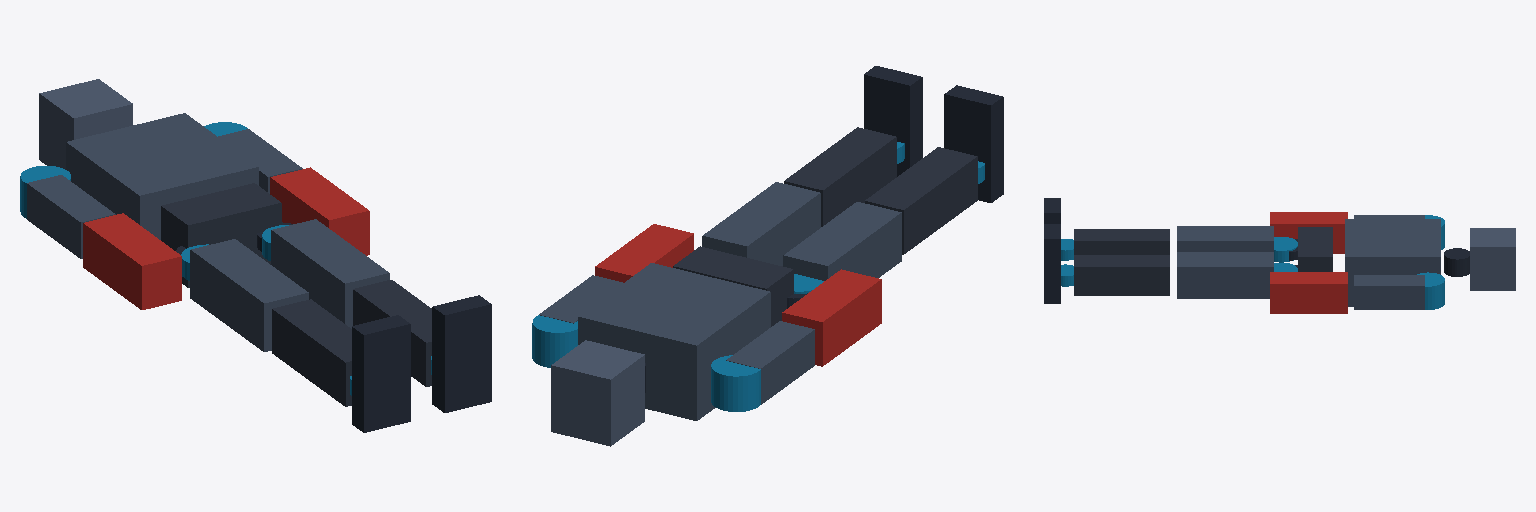
URDF robot description (rocky_mk1):
<?xml version="1.0"?>
<robot name="rocky_mk1">
  <!--
    Per-link mass properties (authored BOM estimates, 2026-11-24).
    Rocky Mk1 is a ~45 cm, ~1.5 kg 1/4-scale humanoid. Total mass of all
    22 <inertial> blocks below: 1.487 kg. Torso/pelvis dominate; limbs
    taper distally. COM origins are near each link's geometric center.
    These URDF tags are the single source of truth; the checked-in table
    crates/rk-control/src/mass_table.rs is generated from them and verified
    by crates/rk-model/tests/mass_table_test.rs.
  -->
  <!-- Pelvis / Root -->
  <link name="pelvis">
    <inertial>
      <origin xyz="0 0 0" rpy="0 0 0" />
      <mass value="0.380" />
      <inertia ixx="0.00100" ixy="0" ixz="0" iyy="0.00080" iyz="0" izz="0.00070" />
    </inertial>
    <visual>
      <origin xyz="0 0 0" rpy="0 0 0" />
      <geometry><box size="0.22 0.11 0.14" /></geometry>
      <material name="titanium_dark"><color rgba="0.22 0.25 0.30 1.0" /></material>
    </visual>
  </link>

  <!-- Torso & Head -->
  <link name="torso">
    <inertial>
      <origin xyz="0 0.16 0" rpy="0 0 0" />
      <mass value="0.480" />
      <inertia ixx="0.00330" ixy="0" ixz="0" iyy="0.00210" iyz="0" izz="0.00250" />
    </inertial>
    <visual>
      <origin xyz="0 0.16 0" rpy="0 0 0" />
      <geometry><box size="0.28 0.30 0.17" /></geometry>
      <material name="armor_slate"><color rgba="0.30 0.35 0.42 1.0" /></material>
    </visual>
  </link>
  <joint name="waist_yaw" type="revolute">
    <parent link="pelvis" />
    <child link="torso" />
    <origin xyz="0 0.08 0" rpy="0 0 0" />
    <axis xyz="0 1 0" />
    <limit lower="-1.05" upper="1.05" effort="24.0" velocity="6.0" />
  </joint>

  <link name="neck">
    <inertial>
      <origin xyz="0 0.03 0" rpy="0 0 0" />
      <mass value="0.014" />
      <inertia ixx="0.00001" ixy="0" ixz="0" iyy="0.00001" iyz="0" izz="0.00001" />
    </inertial>
    <visual>
      <origin xyz="0 0.03 0" rpy="0 0 0" />
      <geometry><cylinder radius="0.042" length="0.06" /></geometry>
      <material name="servo_ring"><color rgba="0.18 0.21 0.26 1.0" /></material>
    </visual>
  </link>
  <joint name="head_yaw" type="revolute">
    <parent link="torso" />
    <child link="neck" />
    <origin xyz="0 0.33 0" rpy="0 0 0" />
    <axis xyz="0 1 0" />
    <limit lower="-1.22" upper="1.22" effort="10.0" velocity="6.0" />
  </joint>

  <link name="head">
    <inertial>
      <origin xyz="0 0.08 0.01" rpy="0 0 0" />
      <mass value="0.065" />
      <inertia ixx="0.00017" ixy="0" ixz="0" iyy="0.00017" iyz="0" izz="0.00014" />
    </inertial>
    <visual>
      <origin xyz="0 0.08 0.01" rpy="0 0 0" />
      <geometry><box size="0.14 0.14 0.15" /></geometry>
      <material name="visor_shell"><color rgba="0.34 0.39 0.47 1.0" /></material>
    </visual>
  </link>
  <joint name="head_pitch" type="revolute">
    <parent link="neck" />
    <child link="head" />
    <origin xyz="0 0.06 0" rpy="0 0 0" />
    <axis xyz="1 0 0" />
    <limit lower="-0.52" upper="0.61" effort="10.0" velocity="6.0" />
  </joint>

  <!-- Left Arm -->
  <link name="l_shoulder">
    <inertial>
      <origin xyz="0.03 0 0" rpy="0 0 0" />
      <mass value="0.028" />
      <inertia ixx="0.00003" ixy="0" ixz="0" iyy="0.00003" iyz="0" izz="0.00003" />
    </inertial>
    <visual>
      <origin xyz="0.03 0 0" rpy="0 0 0" />
      <geometry><cylinder radius="0.052" length="0.08" /></geometry>
      <material name="servo_accent"><color rgba="0.12 0.52 0.68 1.0" /></material>
    </visual>
  </link>
  <joint name="l_shoulder_pitch" type="revolute">
    <parent link="torso" />
    <child link="l_shoulder" />
    <origin xyz="0.18 0.27 0" rpy="0 0 0" />
    <axis xyz="1 0 0" />
    <limit lower="-2.45" upper="1.40" effort="22.0" velocity="6.0" />
  </joint>

  <link name="l_upper_arm">
    <inertial>
      <origin xyz="0 -0.12 0" rpy="0 0 0" />
      <mass value="0.026" />
      <inertia ixx="0.00010" ixy="0" ixz="0" iyy="0.00010" iyz="0" izz="0.00004" />
    </inertial>
    <visual>
      <origin xyz="0 -0.12 0" rpy="0 0 0" />
      <geometry><box size="0.082 0.22 0.082" /></geometry>
      <material name="armor_slate"><color rgba="0.30 0.35 0.42 1.0" /></material>
    </visual>
  </link>
  <joint name="l_shoulder_roll" type="revolute">
    <parent link="l_shoulder" />
    <child link="l_upper_arm" />
    <origin xyz="0.04 0 0" rpy="0 0 0" />
    <axis xyz="0 0 1" />
    <limit lower="-0.20" upper="1.85" effort="20.0" velocity="6.0" />
  </joint>

  <link name="l_forearm">
    <inertial>
      <origin xyz="0 -0.13 0" rpy="0 0 0" />
      <mass value="0.018" />
      <inertia ixx="0.00009" ixy="0" ixz="0" iyy="0.00009" iyz="0" izz="0.00004" />
    </inertial>
    <visual>
      <origin xyz="0 -0.13 0" rpy="0 0 0" />
      <geometry><box size="0.095 0.24 0.10" /></geometry>
      <material name="gauntlet_red"><color rgba="0.72 0.22 0.20 1.0" /></material>
    </visual>
  </link>
  <joint name="l_elbow_pitch" type="revolute">
    <parent link="l_upper_arm" />
    <child link="l_forearm" />
    <origin xyz="0 -0.24 0" rpy="0 0 0" />
    <axis xyz="1 0 0" />
    <limit lower="-2.25" upper="0.05" effort="18.0" velocity="6.0" />
  </joint>

  <!-- Right Arm -->
  <link name="r_shoulder">
    <inertial>
      <origin xyz="-0.03 0 0" rpy="0 0 0" />
      <mass value="0.028" />
      <inertia ixx="0.00003" ixy="0" ixz="0" iyy="0.00003" iyz="0" izz="0.00003" />
    </inertial>
    <visual>
      <origin xyz="-0.03 0 0" rpy="0 0 0" />
      <geometry><cylinder radius="0.052" length="0.08" /></geometry>
      <material name="servo_accent"><color rgba="0.12 0.52 0.68 1.0" /></material>
    </visual>
  </link>
  <joint name="r_shoulder_pitch" type="revolute">
    <parent link="torso" />
    <child link="r_shoulder" />
    <origin xyz="-0.18 0.27 0" rpy="0 0 0" />
    <axis xyz="1 0 0" />
    <limit lower="-2.45" upper="1.40" effort="22.0" velocity="6.0" />
  </joint>

  <link name="r_upper_arm">
    <inertial>
      <origin xyz="0 -0.12 0" rpy="0 0 0" />
      <mass value="0.026" />
      <inertia ixx="0.00010" ixy="0" ixz="0" iyy="0.00010" iyz="0" izz="0.00004" />
    </inertial>
    <visual>
      <origin xyz="0 -0.12 0" rpy="0 0 0" />
      <geometry><box size="0.082 0.22 0.082" /></geometry>
      <material name="armor_slate"><color rgba="0.30 0.35 0.42 1.0" /></material>
    </visual>
  </link>
  <joint name="r_shoulder_roll" type="revolute">
    <parent link="r_shoulder" />
    <child link="r_upper_arm" />
    <origin xyz="-0.04 0 0" rpy="0 0 0" />
    <axis xyz="0 0 1" />
    <limit lower="-1.85" upper="0.20" effort="20.0" velocity="6.0" />
  </joint>

  <link name="r_forearm">
    <inertial>
      <origin xyz="0 -0.13 0" rpy="0 0 0" />
      <mass value="0.018" />
      <inertia ixx="0.00009" ixy="0" ixz="0" iyy="0.00009" iyz="0" izz="0.00004" />
    </inertial>
    <visual>
      <origin xyz="0 -0.13 0" rpy="0 0 0" />
      <geometry><box size="0.095 0.24 0.10" /></geometry>
      <material name="gauntlet_red"><color rgba="0.72 0.22 0.20 1.0" /></material>
    </visual>
  </link>
  <joint name="r_elbow_pitch" type="revolute">
    <parent link="r_upper_arm" />
    <child link="r_forearm" />
    <origin xyz="0 -0.24 0" rpy="0 0 0" />
    <axis xyz="1 0 0" />
    <limit lower="-2.25" upper="0.05" effort="18.0" velocity="6.0" />
  </joint>

  <!-- Left Leg (6-DoF: Hip Yaw -> Hip Roll -> Hip Pitch -> Knee Pitch -> Ankle Pitch -> Ankle Roll) -->
  <link name="l_hip_yaw_link">
    <inertial>
      <origin xyz="0 -0.015 0" rpy="0 0 0" />
      <mass value="0.018" />
      <inertia ixx="0.00002" ixy="0" ixz="0" iyy="0.00002" iyz="0" izz="0.00002" />
    </inertial>
    <visual>
      <origin xyz="0 -0.015 0" rpy="0 0 0" />
      <geometry><cylinder radius="0.048" length="0.03" /></geometry>
      <material name="servo_ring"><color rgba="0.18 0.21 0.26 1.0" /></material>
    </visual>
  </link>
  <joint name="l_hip_yaw" type="revolute">
    <parent link="pelvis" />
    <child link="l_hip_yaw_link" />
    <origin xyz="0.095 -0.06 0" rpy="0 0 0" />
    <axis xyz="0 1 0" />
    <limit lower="-0.85" upper="0.85" effort="24.0" velocity="6.0" />
  </joint>

  <link name="l_hip_roll_link">
    <inertial>
      <origin xyz="0 -0.015 0" rpy="0 0 0" />
      <mass value="0.022" />
      <inertia ixx="0.00002" ixy="0" ixz="0" iyy="0.00002" iyz="0" izz="0.00002" />
    </inertial>
    <visual>
      <origin xyz="0 -0.015 0" rpy="0 0 0" />
      <geometry><cylinder radius="0.052" length="0.04" /></geometry>
      <material name="servo_accent"><color rgba="0.12 0.52 0.68 1.0" /></material>
    </visual>
  </link>
  <joint name="l_hip_roll" type="revolute">
    <parent link="l_hip_yaw_link" />
    <child link="l_hip_roll_link" />
    <origin xyz="0 -0.03 0" rpy="0 0 0" />
    <axis xyz="0 0 1" />
    <limit lower="-0.55" upper="0.65" effort="28.0" velocity="6.0" />
  </joint>

  <link name="l_thigh">
    <inertial>
      <origin xyz="0 -0.16 0" rpy="0 0 0" />
      <mass value="0.062" />
      <inertia ixx="0.00044" ixy="0" ixz="0" iyy="0.00044" iyz="0" izz="0.00011" />
    </inertial>
    <visual>
      <origin xyz="0 -0.16 0" rpy="0 0 0" />
      <geometry><box size="0.105 0.30 0.11" /></geometry>
      <material name="armor_slate"><color rgba="0.30 0.35 0.42 1.0" /></material>
    </visual>
  </link>
  <joint name="l_hip_pitch" type="revolute">
    <parent link="l_hip_roll_link" />
    <child link="l_thigh" />
    <origin xyz="0 -0.03 0" rpy="0 0 0" />
    <axis xyz="1 0 0" />
    <limit lower="-1.75" upper="0.95" effort="32.0" velocity="6.0" />
  </joint>

  <link name="l_shin">
    <inertial>
      <origin xyz="0 -0.16 0" rpy="0 0 0" />
      <mass value="0.042" />
      <inertia ixx="0.00031" ixy="0" ixz="0" iyy="0.00031" iyz="0" izz="0.00008" />
    </inertial>
    <visual>
      <origin xyz="0 -0.16 0" rpy="0 0 0" />
      <geometry><box size="0.092 0.30 0.10" /></geometry>
      <material name="titanium_dark"><color rgba="0.22 0.25 0.30 1.0" /></material>
    </visual>
  </link>
  <joint name="l_knee_pitch" type="revolute">
    <parent link="l_thigh" />
    <child link="l_shin" />
    <origin xyz="0 -0.32 0" rpy="0 0 0" />
    <axis xyz="1 0 0" />
    <limit lower="0.00" upper="2.15" effort="34.0" velocity="6.0" />
  </joint>

  <link name="l_ankle_link">
    <inertial>
      <origin xyz="0 -0.015 0" rpy="0 0 0" />
      <mass value="0.016" />
      <inertia ixx="0.00001" ixy="0" ixz="0" iyy="0.00001" iyz="0" izz="0.00001" />
    </inertial>
    <visual>
      <origin xyz="0 -0.015 0" rpy="0 0 0" />
      <geometry><cylinder radius="0.044" length="0.035" /></geometry>
      <material name="servo_accent"><color rgba="0.12 0.52 0.68 1.0" /></material>
    </visual>
  </link>
  <joint name="l_ankle_pitch" type="revolute">
    <parent link="l_shin" />
    <child link="l_ankle_link" />
    <origin xyz="0 -0.32 0" rpy="0 0 0" />
    <axis xyz="1 0 0" />
    <limit lower="-0.85" upper="0.85" effort="24.0" velocity="6.0" />
  </joint>

  <link name="l_foot">
    <inertial>
      <origin xyz="0 -0.025 0.04" rpy="0 0 0" />
      <mass value="0.042" />
      <inertia ixx="0.00017" ixy="0" ixz="0" iyy="0.00045" iyz="0" izz="0.00040" />
    </inertial>
    <visual>
      <origin xyz="0 -0.025 0.04" rpy="0 0 0" />
      <geometry><box size="0.11 0.05 0.22" /></geometry>
      <material name="servo_ring"><color rgba="0.18 0.21 0.26 1.0" /></material>
    </visual>
  </link>
  <joint name="l_ankle_roll" type="revolute">
    <parent link="l_ankle_link" />
    <child link="l_foot" />
    <origin xyz="0 -0.03 0" rpy="0 0 0" />
    <axis xyz="0 0 1" />
    <limit lower="-0.65" upper="0.65" effort="22.0" velocity="6.0" />
  </joint>

  <!-- Right Leg (6-DoF: Hip Yaw -> Hip Roll -> Hip Pitch -> Knee Pitch -> Ankle Pitch -> Ankle Roll) -->
  <link name="r_hip_yaw_link">
    <inertial>
      <origin xyz="0 -0.015 0" rpy="0 0 0" />
      <mass value="0.018" />
      <inertia ixx="0.00002" ixy="0" ixz="0" iyy="0.00002" iyz="0" izz="0.00002" />
    </inertial>
    <visual>
      <origin xyz="0 -0.015 0" rpy="0 0 0" />
      <geometry><cylinder radius="0.048" length="0.03" /></geometry>
      <material name="servo_ring"><color rgba="0.18 0.21 0.26 1.0" /></material>
    </visual>
  </link>
  <joint name="r_hip_yaw" type="revolute">
    <parent link="pelvis" />
    <child link="r_hip_yaw_link" />
    <origin xyz="-0.095 -0.06 0" rpy="0 0 0" />
    <axis xyz="0 1 0" />
    <limit lower="-0.85" upper="0.85" effort="24.0" velocity="6.0" />
  </joint>

  <link name="r_hip_roll_link">
    <inertial>
      <origin xyz="0 -0.015 0" rpy="0 0 0" />
      <mass value="0.022" />
      <inertia ixx="0.00002" ixy="0" ixz="0" iyy="0.00002" iyz="0" izz="0.00002" />
    </inertial>
    <visual>
      <origin xyz="0 -0.015 0" rpy="0 0 0" />
      <geometry><cylinder radius="0.052" length="0.04" /></geometry>
      <material name="servo_accent"><color rgba="0.12 0.52 0.68 1.0" /></material>
    </visual>
  </link>
  <joint name="r_hip_roll" type="revolute">
    <parent link="r_hip_yaw_link" />
    <child link="r_hip_roll_link" />
    <origin xyz="0 -0.03 0" rpy="0 0 0" />
    <axis xyz="0 0 1" />
    <limit lower="-0.65" upper="0.55" effort="28.0" velocity="6.0" />
  </joint>

  <link name="r_thigh">
    <inertial>
      <origin xyz="0 -0.16 0" rpy="0 0 0" />
      <mass value="0.062" />
      <inertia ixx="0.00044" ixy="0" ixz="0" iyy="0.00044" iyz="0" izz="0.00011" />
    </inertial>
    <visual>
      <origin xyz="0 -0.16 0" rpy="0 0 0" />
      <geometry><box size="0.105 0.30 0.11" /></geometry>
      <material name="armor_slate"><color rgba="0.30 0.35 0.42 1.0" /></material>
    </visual>
  </link>
  <joint name="r_hip_pitch" type="revolute">
    <parent link="r_hip_roll_link" />
    <child link="r_thigh" />
    <origin xyz="0 -0.03 0" rpy="0 0 0" />
    <axis xyz="1 0 0" />
    <limit lower="-1.75" upper="0.95" effort="32.0" velocity="6.0" />
  </joint>

  <link name="r_shin">
    <inertial>
      <origin xyz="0 -0.16 0" rpy="0 0 0" />
      <mass value="0.042" />
      <inertia ixx="0.00031" ixy="0" ixz="0" iyy="0.00031" iyz="0" izz="0.00008" />
    </inertial>
    <visual>
      <origin xyz="0 -0.16 0" rpy="0 0 0" />
      <geometry><box size="0.092 0.30 0.10" /></geometry>
      <material name="titanium_dark"><color rgba="0.22 0.25 0.30 1.0" /></material>
    </visual>
  </link>
  <joint name="r_knee_pitch" type="revolute">
    <parent link="r_thigh" />
    <child link="r_shin" />
    <origin xyz="0 -0.32 0" rpy="0 0 0" />
    <axis xyz="1 0 0" />
    <limit lower="0.00" upper="2.15" effort="34.0" velocity="6.0" />
  </joint>

  <link name="r_ankle_link">
    <inertial>
      <origin xyz="0 -0.015 0" rpy="0 0 0" />
      <mass value="0.016" />
      <inertia ixx="0.00001" ixy="0" ixz="0" iyy="0.00001" iyz="0" izz="0.00001" />
    </inertial>
    <visual>
      <origin xyz="0 -0.015 0" rpy="0 0 0" />
      <geometry><cylinder radius="0.044" length="0.035" /></geometry>
      <material name="servo_accent"><color rgba="0.12 0.52 0.68 1.0" /></material>
    </visual>
  </link>
  <joint name="r_ankle_pitch" type="revolute">
    <parent link="r_shin" />
    <child link="r_ankle_link" />
    <origin xyz="0 -0.32 0" rpy="0 0 0" />
    <axis xyz="1 0 0" />
    <limit lower="-0.85" upper="0.85" effort="24.0" velocity="6.0" />
  </joint>

  <link name="r_foot">
    <inertial>
      <origin xyz="0 -0.025 0.04" rpy="0 0 0" />
      <mass value="0.042" />
      <inertia ixx="0.00017" ixy="0" ixz="0" iyy="0.00045" iyz="0" izz="0.00040" />
    </inertial>
    <visual>
      <origin xyz="0 -0.025 0.04" rpy="0 0 0" />
      <geometry><box size="0.11 0.05 0.22" /></geometry>
      <material name="servo_ring"><color rgba="0.18 0.21 0.26 1.0" /></material>
    </visual>
  </link>
  <joint name="r_ankle_roll" type="revolute">
    <parent link="r_ankle_link" />
    <child link="r_foot" />
    <origin xyz="0 -0.03 0" rpy="0 0 0" />
    <axis xyz="0 0 1" />
    <limit lower="-0.65" upper="0.65" effort="22.0" velocity="6.0" />
  </joint>
</robot>

--- Facts derived from the render (not from the file) ---
The picture shows the robot from 3 angles, left to right: view 1: azimuth 30°, elevation 25°; view 2: azimuth 150°, elevation 25°; view 3: azimuth 270°, elevation 25°; orthographic projection.
Robot: rocky_mk1 — 22 links, 21 joints (21 revolute); root link pelvis; default pose: every joint at zero.
Links seen in each view (by area): view 1: torso, r_thigh, r_forearm, l_thigh, l_foot, r_foot, pelvis, r_shin, head, l_forearm, r_upper_arm, l_shin (+2 smaller); view 2: torso, head, r_thigh, r_shin, l_thigh, l_shin, r_forearm, r_foot, l_foot, r_upper_arm, pelvis, l_forearm (+3 smaller); view 3: torso, l_thigh, l_shin, l_forearm, head, r_thigh, r_shin, l_upper_arm, r_forearm, pelvis, l_foot, l_shoulder (+1 smaller).
Boxes of the visible links, left/top/right/bottom form: torso: left=66, top=113, right=258, bottom=239; r_thigh: left=190, top=239, right=308, bottom=351; r_forearm: left=83, top=213, right=181, bottom=309; l_thigh: left=271, top=219, right=389, bottom=328; l_foot: left=432, top=295, right=491, bottom=412; r_foot: left=352, top=315, right=410, bottom=432; pelvis: left=161, top=183, right=281, bottom=287; r_shin: left=272, top=299, right=351, bottom=406; head: left=39, top=79, right=132, bottom=169; l_forearm: left=270, top=167, right=369, bottom=255; r_upper_arm: left=27, top=175, right=115, bottom=258; l_shin: left=353, top=280, right=431, bottom=386; torso: left=578, top=263, right=770, bottom=420; head: left=551, top=340, right=644, bottom=446; r_thigh: left=783, top=202, right=901, bottom=280; r_shin: left=865, top=147, right=977, bottom=254; l_thigh: left=702, top=182, right=820, bottom=265; l_shin: left=784, top=127, right=896, bottom=226; r_forearm: left=782, top=269, right=881, bottom=366; r_foot: left=944, top=85, right=1003, bottom=202; l_foot: left=864, top=66, right=922, bottom=176; r_upper_arm: left=726, top=321, right=814, bottom=404; pelvis: left=673, top=246, right=793, bottom=326; l_forearm: left=595, top=224, right=693, bottom=282; torso: left=1345, top=219, right=1440, bottom=306; l_thigh: left=1177, top=252, right=1273, bottom=298; l_shin: left=1074, top=255, right=1169, bottom=295; l_forearm: left=1270, top=272, right=1347, bottom=313; head: left=1470, top=228, right=1515, bottom=290; r_thigh: left=1177, top=226, right=1273, bottom=251; r_shin: left=1074, top=229, right=1169, bottom=254; l_upper_arm: left=1354, top=275, right=1424, bottom=309; r_forearm: left=1270, top=212, right=1347, bottom=253; pelvis: left=1298, top=227, right=1332, bottom=271; l_foot: left=1044, top=224, right=1060, bottom=303; l_shoulder: left=1417, top=272, right=1444, bottom=309.
Bounding box of the posed robot: 0.535 × 1.46 × 0.235 m (x, y, z).
Geometry: primitives only (box / cylinder / sphere), no mesh files.
